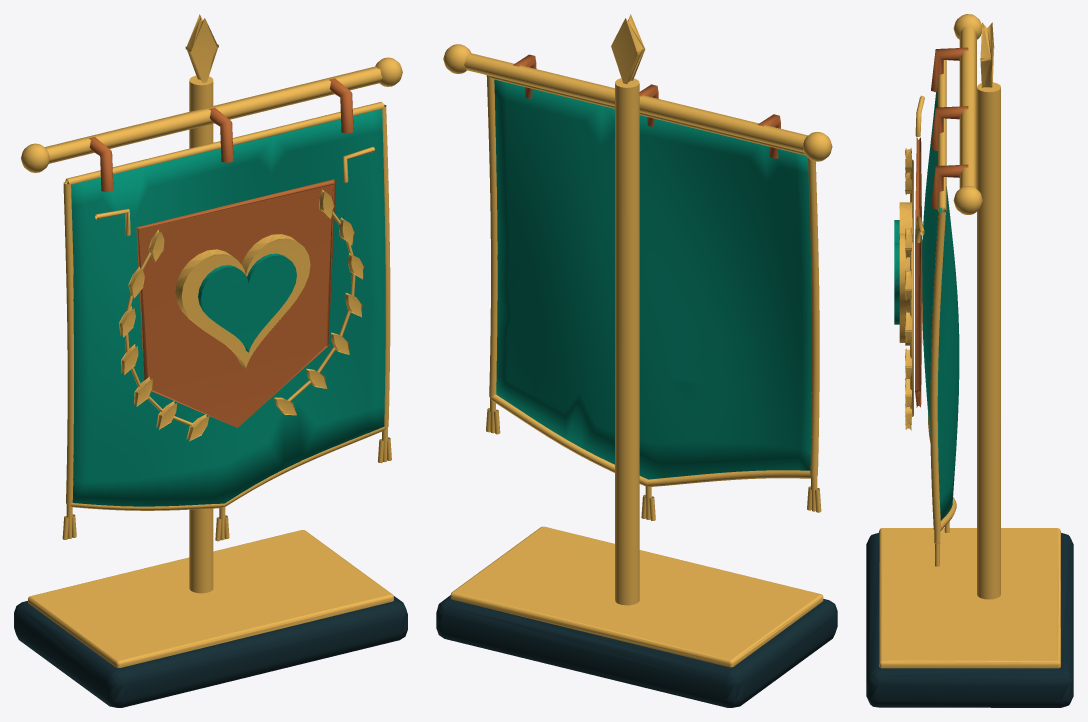
File: chess.banner.house-pink.glb
3 views of the same model, side by side, from view 1: azimuth 30°, elevation 25°; view 2: azimuth 150°, elevation 25°; view 3: azimuth 270°, elevation 25° (orthographic). The views are drawn at different scales.
Visible parts, largest first — view 1: woven_banner, embroidered_shield, banner_foot_rim, banner_foot, banner_crest_inset, banner_crossbar, banner_raised_crest, banner_pole, braided_banner_edge.002, braided_banner_edge, braided_banner_edge.003, braided_banner_edge.001 (+5 smaller); view 2: woven_banner, banner_foot_rim, banner_foot, banner_pole, banner_crossbar, braided_banner_edge.001, braided_banner_edge.002, braided_banner_edge.003, spear_finial, braided_banner_edge, crossbar_end; view 3: banner_foot_rim, banner_pole, banner_foot, woven_banner, banner_crossbar, braided_banner_edge.003, embroidered_shield, banner_raised_crest, braided_banner_edge, spear_finial, crossbar_end.001, cloth_hanger.001 (+5 smaller).
Boxes of the visible parts, x1=… form: woven_banner: x1=67, y1=109, x2=385, y2=506; embroidered_shield: x1=136, y1=179, x2=337, y2=427; banner_foot_rim: x1=28, y1=530, x2=393, y2=668; banner_foot: x1=14, y1=596, x2=407, y2=707; banner_crest_inset: x1=198, y1=253, x2=296, y2=352; banner_crossbar: x1=44, y1=66, x2=382, y2=163; banner_raised_crest: x1=175, y1=234, x2=310, y2=369; banner_pole: x1=189, y1=75, x2=213, y2=593; braided_banner_edge.002: x1=63, y1=181, x2=73, y2=504; braided_banner_edge: x1=65, y1=102, x2=384, y2=184; braided_banner_edge.003: x1=382, y1=104, x2=390, y2=427; braided_banner_edge.001: x1=70, y1=427, x2=386, y2=510; woven_banner: x1=494, y1=79, x2=811, y2=479; banner_foot_rim: x1=450, y1=526, x2=823, y2=667; banner_foot: x1=436, y1=595, x2=837, y2=707; banner_pole: x1=615, y1=78, x2=639, y2=605; banner_crossbar: x1=464, y1=53, x2=807, y2=152; braided_banner_edge.001: x1=490, y1=394, x2=812, y2=486; braided_banner_edge.002: x1=808, y1=158, x2=819, y2=476; braided_banner_edge.003: x1=486, y1=75, x2=497, y2=396; spear_finial: x1=611, y1=14, x2=645, y2=84; braided_banner_edge: x1=488, y1=75, x2=805, y2=155; crossbar_end: x1=803, y1=132, x2=832, y2=161; banner_foot_rim: x1=879, y1=528, x2=1060, y2=668; banner_pole: x1=977, y1=82, x2=1000, y2=599; banner_foot: x1=866, y1=533, x2=1073, y2=707; woven_banner: x1=922, y1=86, x2=959, y2=520; banner_crossbar: x1=959, y1=26, x2=976, y2=188; braided_banner_edge.003: x1=930, y1=209, x2=945, y2=530; embroidered_shield: x1=915, y1=137, x2=922, y2=407; banner_raised_crest: x1=899, y1=202, x2=912, y2=342; braided_banner_edge: x1=938, y1=60, x2=946, y2=212; spear_finial: x1=980, y1=22, x2=994, y2=87; crossbar_end.001: x1=953, y1=186, x2=982, y2=214; cloth_hanger.001: x1=931, y1=106, x2=968, y2=150.
Bounding box in the file's own units: 0.4799 × 0.75 × 0.2285.
